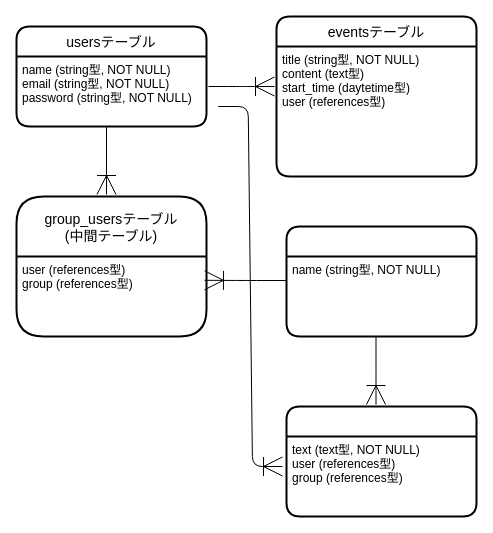
Some shapes in this 493 by 533 pixel diagram are drawn without their labels. The box of each missing label's shape, as (x1, y1, x2, y2) in pixels:
chatsテーブル: (285, 405, 477, 517)
groupsテーブル: (285, 225, 477, 337)
